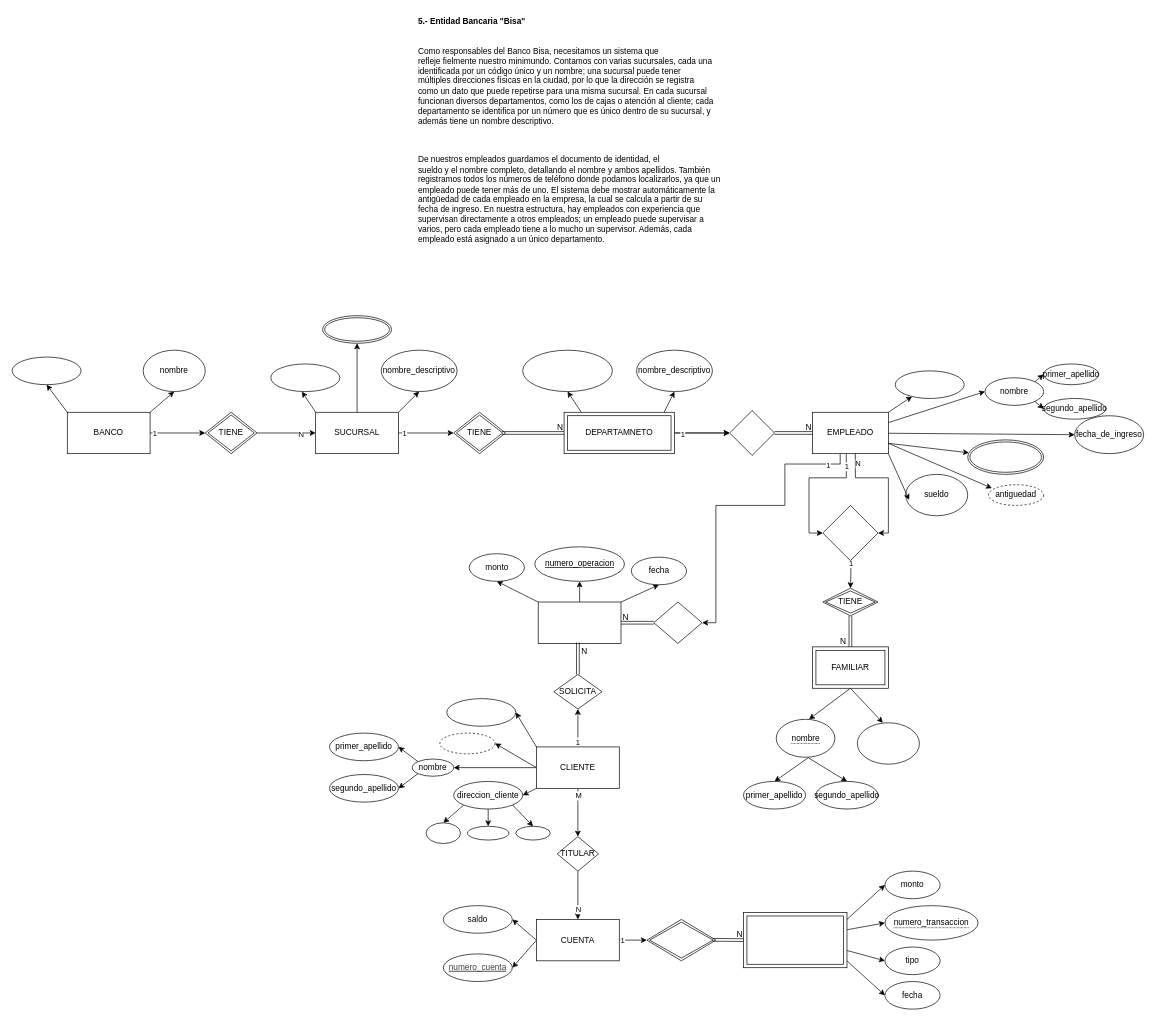
Some shapes in this 1156 by 1021 pixel diagram are drawn without their labels. Here are the shapes that lost their labels. From the top down, the centre of each, then its label:
At point 357,329: "direccion".
At point 46,370: "codigo_banco".
At point 305,377: "codigo_sucursal".
At point 567,370: "numero_departamento".
At point 929,384: "ci_empleado".
At point 752,432: "ASIGNA".
At point 1005,456: "telefono_empleado".
At point 850,533: "SUPERVISA".
At point 579,622: "PRESTAMO".
At point 677,622: "APRUEBA".
At point 481,712: "ci_cliente".
At point 467,743: "saldo_total".
At point 888,743: "parentesco".
At point 443,833: "calle".
At point 488,833: "numero".
At point 532,833: "zona".
At point 681,940: "REGISTRA".
At point 795,940: "TRANSACCION".
